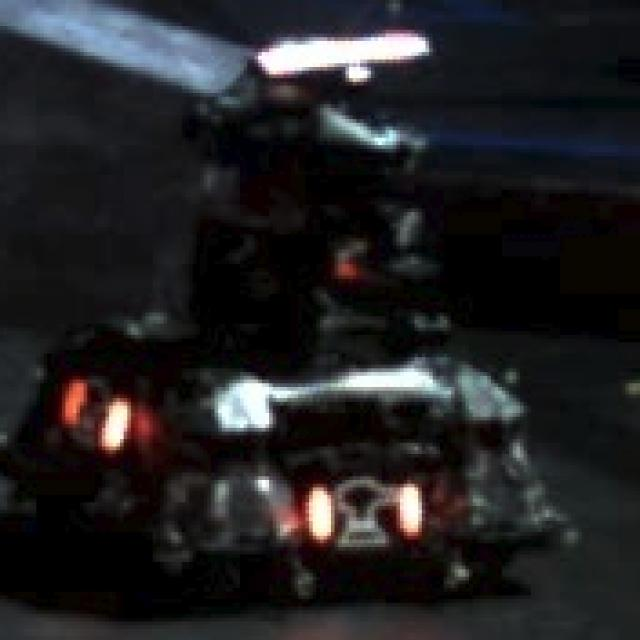Rs: (309, 484, 422, 540), (65, 376, 124, 446)
